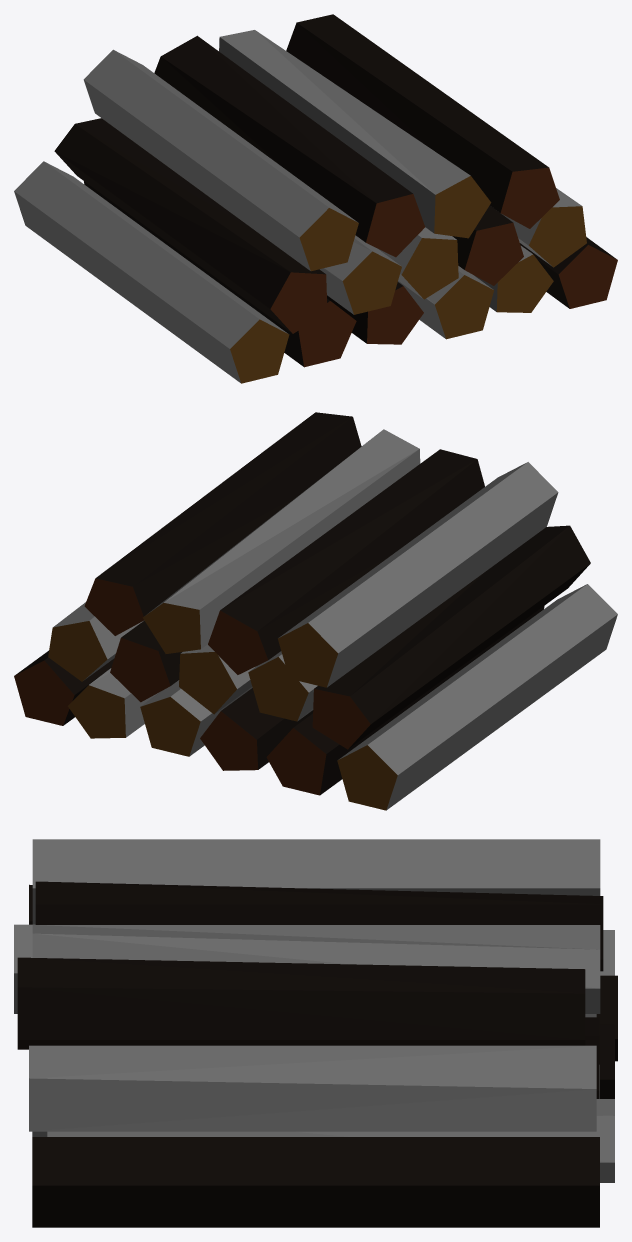
Rendered from Piles_of_wood_2.fbx.
The picture shows the model from 3 angles, top to bottom: view 1: azimuth 30°, elevation 25°; view 2: azimuth 150°, elevation 25°; view 3: azimuth 270°, elevation 25°; orthographic projection. The views are drawn at different scales.
Visible parts, largest first — view 1: Piles_of_wood_2; view 2: Piles_of_wood_2; view 3: Piles_of_wood_2.
Part boxes in pixels (x1,y1,x2,y2): Piles_of_wood_2: [14, 14, 617, 383]; Piles_of_wood_2: [14, 412, 617, 810]; Piles_of_wood_2: [14, 839, 617, 1227].
Size of the model in its own units: 272 by 109 by 284.
